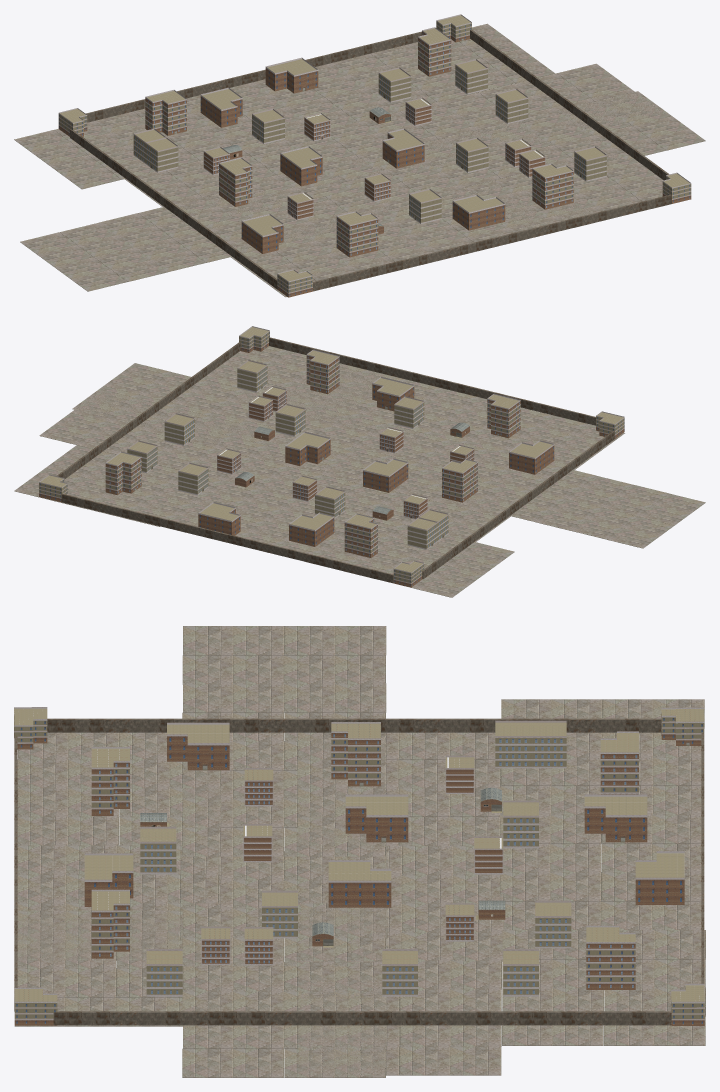
Rendered from map.glb.
3 renders of one model, top to bottom at view 1: azimuth 30°, elevation 25°; view 2: azimuth 150°, elevation 25°; view 3: azimuth 270°, elevation 25°, orthographic. The views are drawn at different scales.
Visible parts, largest first — view 1: Cube.012, Cube.004, Cube.005, Cube.001, Cube.007, Cube.003, Cube.009, Cube.006, Cube.015, Cube.002, Cube.010, Cube.008 (+36 smaller); view 2: Cube.012, Cube.004, Cube.009, Cube.005, Cube.003, Cube.008, Cube.001, Cube.007, Cube.006, Cube.010, Cube.002, Cube.015 (+34 smaller); view 3: Cube.012, Cube.009, Cube.004, Cube.001, Cube.006, Cube.007, Cube.003, Cube.008, Cube.015, Cube.005, Cube.010, Cube.002 (+36 smaller).
Boxes of the visible parts, <box> form: Cube.012: <box>20,207,245,291</box>; Cube.004: <box>439,63,663,145</box>; Cube.005: <box>14,108,232,189</box>; Cube.001: <box>186,63,397,150</box>; Cube.007: <box>125,140,349,228</box>; Cube.003: <box>331,23,554,111</box>; Cube.009: <box>494,91,705,172</box>; Cube.006: <box>231,209,434,297</box>; Cube.015: <box>283,102,487,189</box>; Cube.002: <box>340,129,522,216</box>; Cube.010: <box>466,155,690,229</box>; Cube.008: <box>382,174,591,251</box>; Cube.012: <box>509,467,705,548</box>; Cube.004: <box>39,390,245,469</box>; Cube.009: <box>72,363,262,444</box>; Cube.005: <box>310,516,514,597</box>; Cube.003: <box>14,445,222,526</box>; Cube.008: <box>287,363,478,442</box>; Cube.001: <box>170,480,368,555</box>; Cube.007: <box>345,464,537,541</box>; Cube.006: <box>427,397,624,478</box>; Cube.010: <box>202,346,396,422</box>; Cube.002: <box>225,400,413,478</box>; Cube.015: <box>194,425,388,502</box>; Cube.012: <box>182,626,386,741</box>; Cube.009: <box>182,962,386,1077</box>; Cube.004: <box>298,960,501,1075</box>; Cube.001: <box>500,814,701,930</box>; Cube.006: <box>17,732,221,845</box>; Cube.007: <box>297,732,500,845</box>; Cube.003: <box>502,930,705,1045</box>; Cube.008: <box>17,845,219,960</box>; Cube.015: <box>300,846,504,961</box>; Cube.005: <box>500,699,704,814</box>; Cube.010: <box>14,910,217,1026</box>; Cube.002: <box>182,851,386,966</box>.
Bounding box in the file's own units: 677 × 33.85 × 438.
232 materials, 232 textured.
